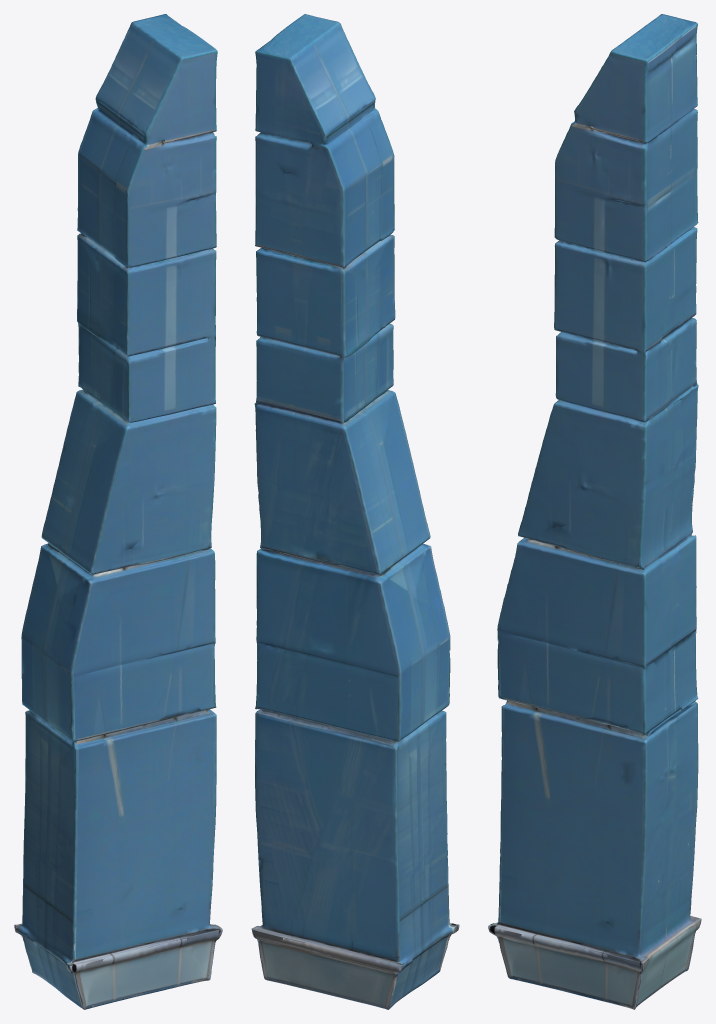
Rendered from biltmore.glb.
The picture shows the model from 3 angles, left to right: view 1: azimuth 30°, elevation 25°; view 2: azimuth 150°, elevation 25°; view 3: azimuth 330°, elevation 25°; orthographic projection. The views are drawn at different scales.
Size of the model in its own units: 0.3432 by 2 by 0.2305.
1 material, 1 textured.
